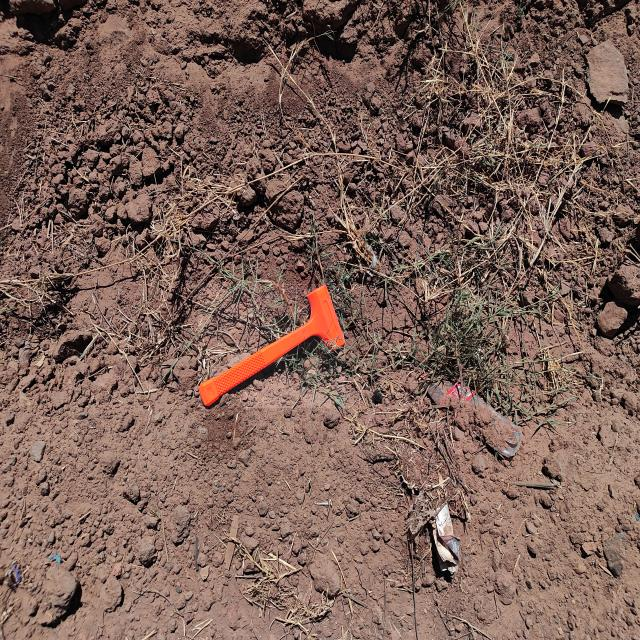Orange_hammer: (198, 284, 345, 408)
